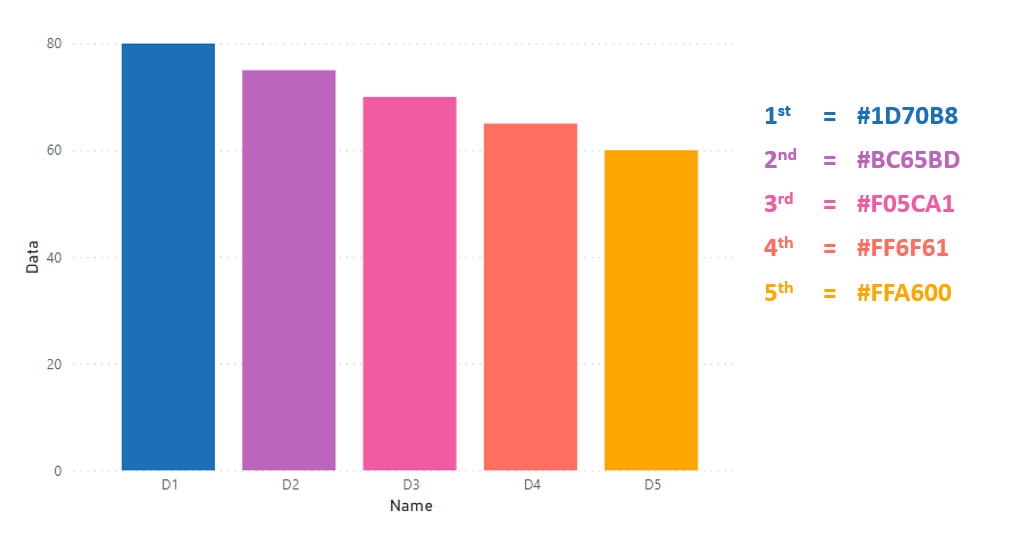

The page's visual inventory and layout, read from the dashboard file:
{"tool":"powerbi","page":{"name":"Page 1","canvas":[1280,720],"ordinal":0},"visuals":[{"type":"columnChart","fields":{"Category":["Table.Name"],"Y":["Sum(Table.Data)"]},"box":[287.9,122.6,633.2,441.6],"z":0}]}

Visuals, with their boxes on the page's 1280x720 design canvas (x1, y1, x2, y2). These are canvas units, not pixel positions in the 1034x544 screenshot, which may show the page scaled, cropped or inside an application window:
columnChart - Table.Name x Sum(Table.Data): <box>288,123,921,564</box>
